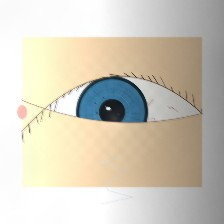foreign_body_visible: (59, 126, 93, 154)
